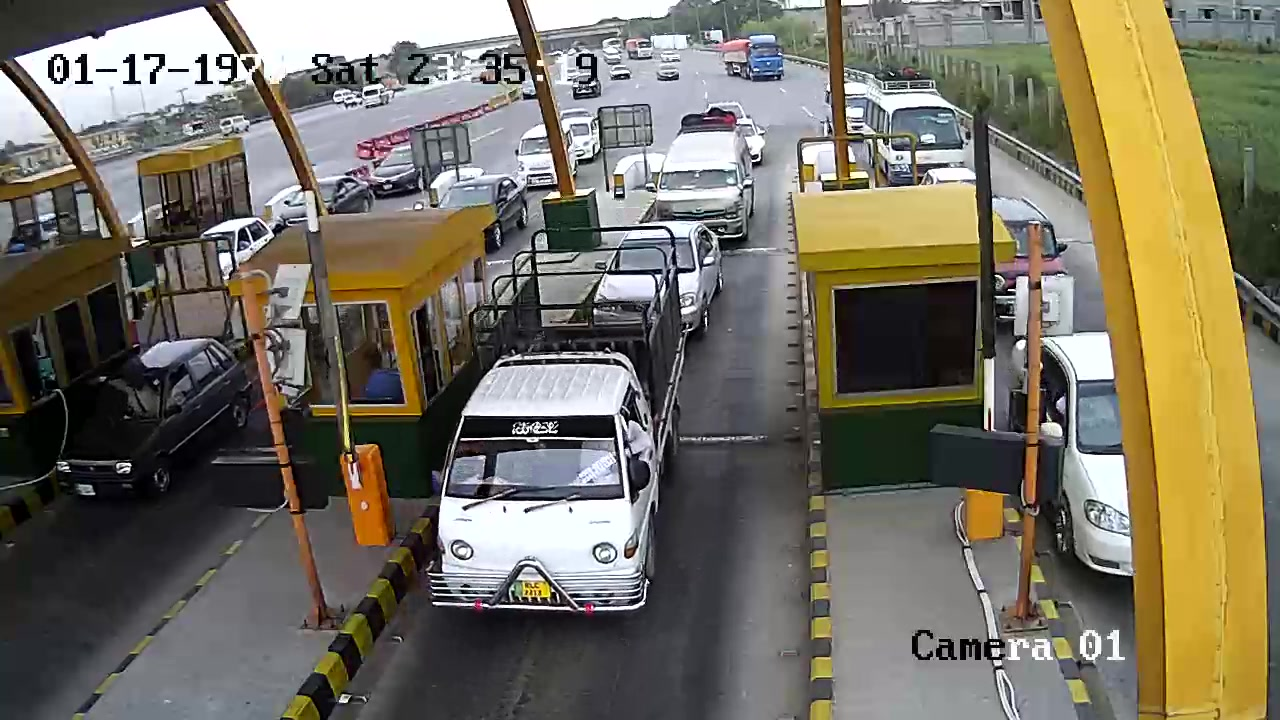F2: (430, 219, 683, 622)
